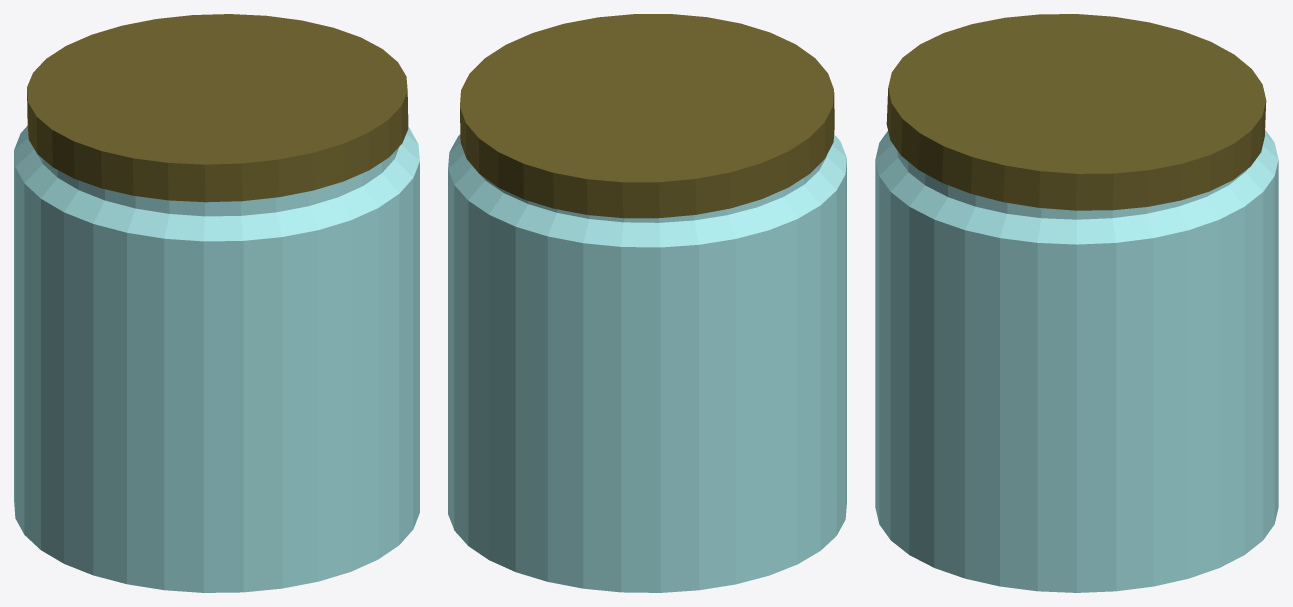
File: Empty Jar.fbx
3 views of the same model, side by side, from view 1: azimuth 30°, elevation 25°; view 2: azimuth 150°, elevation 25°; view 3: azimuth 270°, elevation 25° (orthographic).
Visible parts, largest first — view 1: Cylinder; view 2: Cylinder; view 3: Cylinder.
Part boxes in pixels (x1,y1,x2,y2): Cylinder: (14,14,419,592); Cylinder: (448,14,846,592); Cylinder: (875,14,1278,592).
Bounding box in the file's own units: 58.19 × 66.91 × 58.19.
